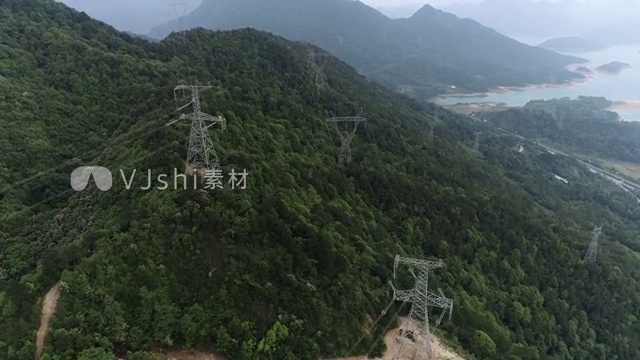tower_body: (379, 246, 460, 358), (171, 75, 230, 169), (322, 106, 367, 167)
tower_foot: (396, 334, 433, 360), (184, 145, 219, 168)
tower_head: (389, 252, 446, 275), (176, 81, 221, 101)
